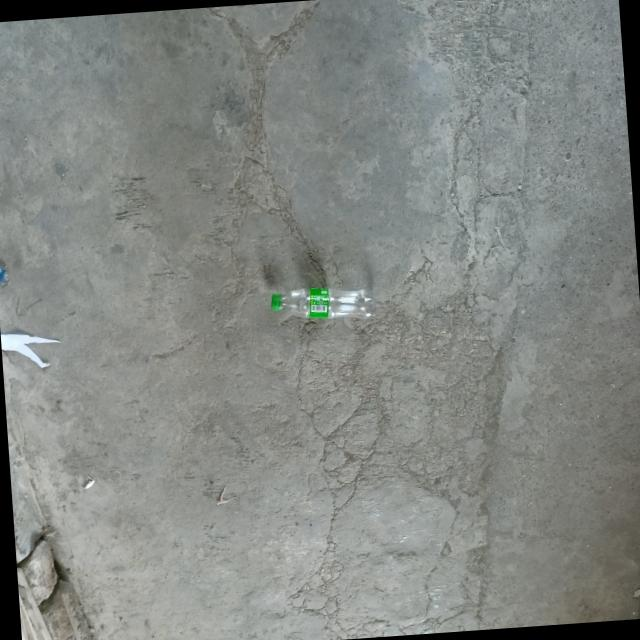Bottle: (271, 287, 377, 319)
